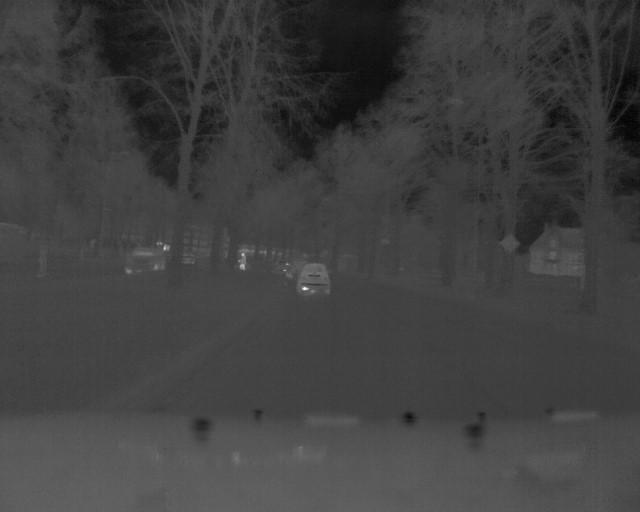car: (125, 243, 169, 275), (296, 263, 333, 298)
person: (236, 253, 248, 272)
